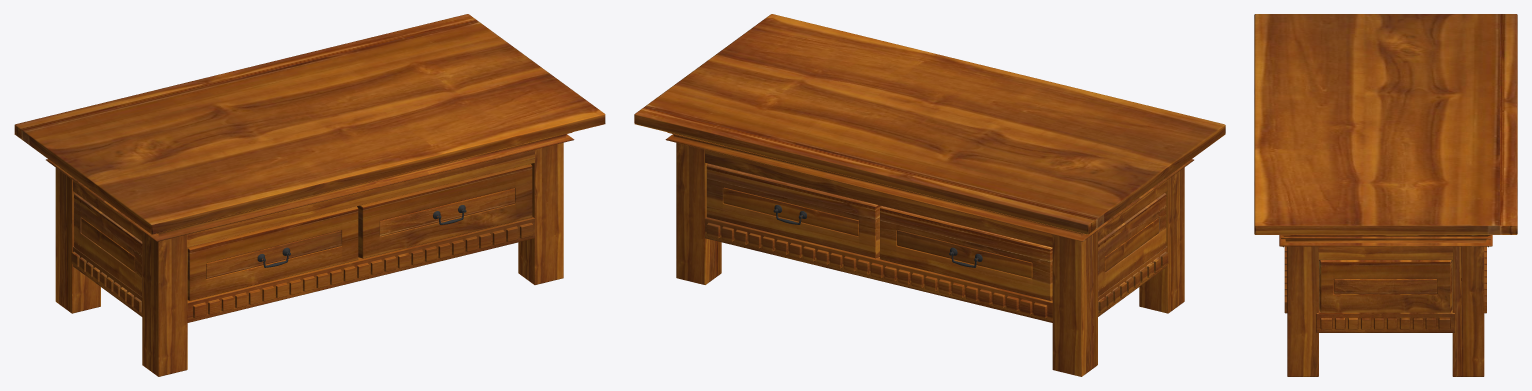
3 renders of one model, left to right at view 1: azimuth 30°, elevation 25°; view 2: azimuth 150°, elevation 25°; view 3: azimuth 270°, elevation 25°, orthographic. The views are drawn at different scales.
Visible parts, largest first — view 1: Line017, Object065, Object069, Object064, Object055, Object.002, Object071, Object063, Object070, Object056; view 2: Line017, Object071, Object069, Object063, Object070, Object054, Object056; view 3: Line017, Object069, Object065, Object064, Object053.001, Object.002.
Boxes of the visible parts, x1,y1,x2,y2 form: Line017: [14, 14, 605, 241]; Object065: [187, 164, 532, 300]; Object069: [55, 142, 563, 376]; Object064: [187, 217, 534, 322]; Object055: [187, 149, 534, 247]; Object.002: [206, 188, 514, 278]; Object071: [74, 193, 142, 296]; Object063: [71, 246, 142, 316]; Object070: [81, 217, 134, 271]; Object056: [73, 180, 142, 241]; Line017: [634, 14, 1225, 241]; Object071: [706, 163, 1166, 300]; Object069: [676, 143, 1184, 376]; Object063: [705, 217, 1168, 322]; Object070: [723, 187, 1158, 278]; Object054: [705, 150, 1052, 247]; Object056: [1098, 180, 1167, 241]; Line017: [1254, 14, 1517, 246]; Object069: [1287, 246, 1484, 376]; Object065: [1319, 260, 1452, 312]; Object064: [1284, 246, 1454, 332]; Object053.001: [1318, 246, 1452, 259]; Object.002: [1334, 279, 1437, 294].
Size of the model in its own units: 125 by 44.78 by 65.45.
2 materials, 1 textured.
